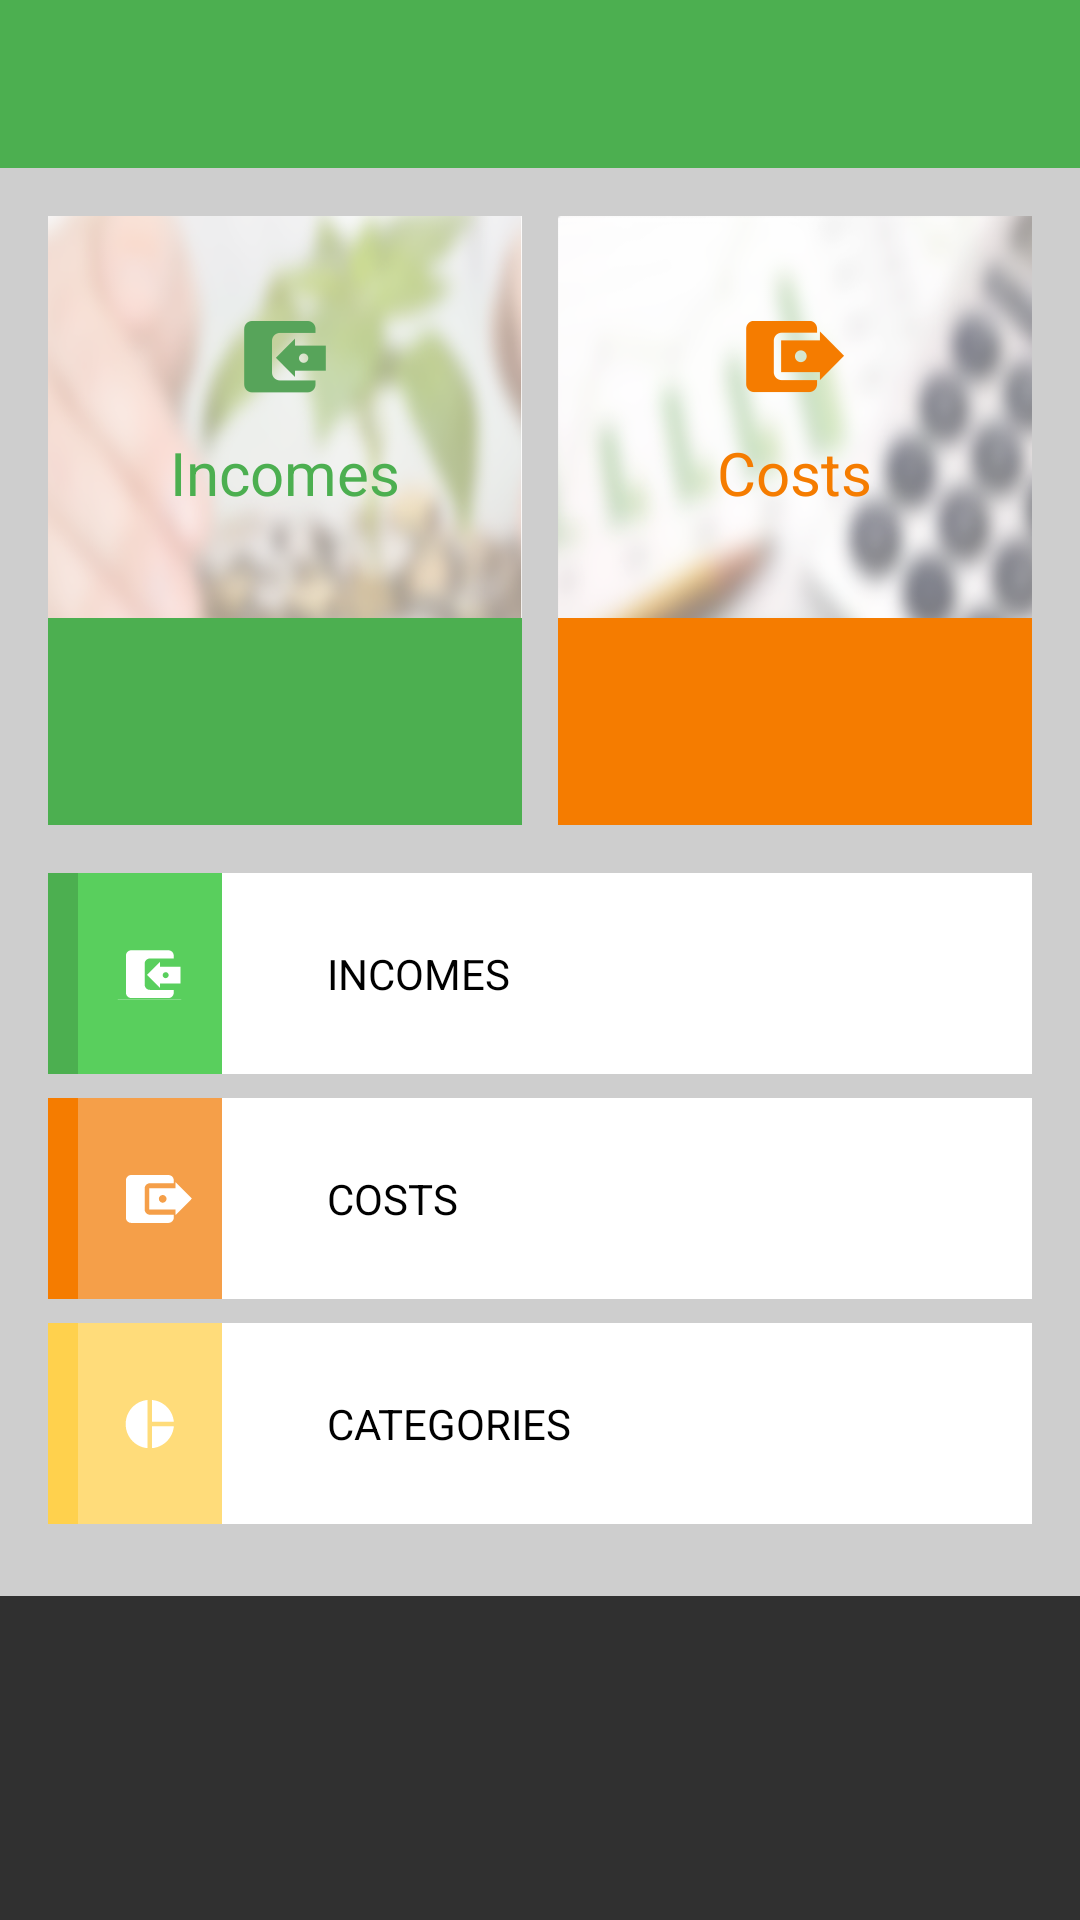

Where to tap for icons on this 1080 x 1920 app screen, as point (x, y):
category: point (150, 1423)
cost on pic: point (795, 357)
income on pic: point (285, 357)
